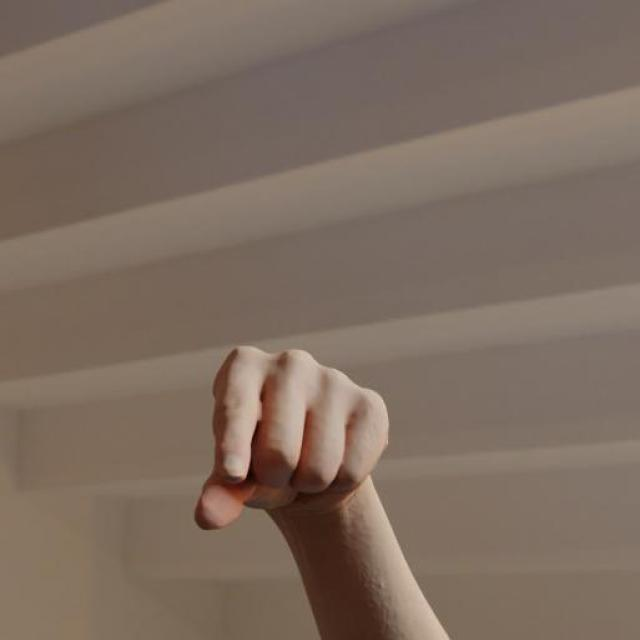Q: (187, 339, 398, 537)
